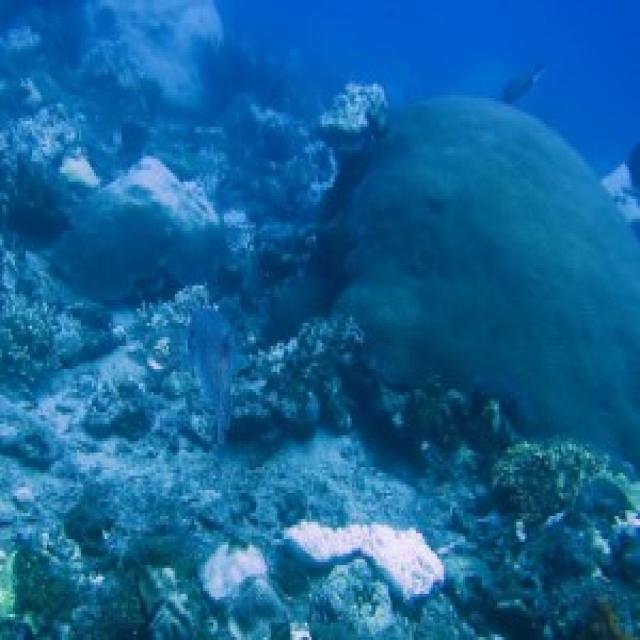Bleached: (319, 82, 391, 272), (285, 529, 445, 601), (202, 543, 268, 601)
